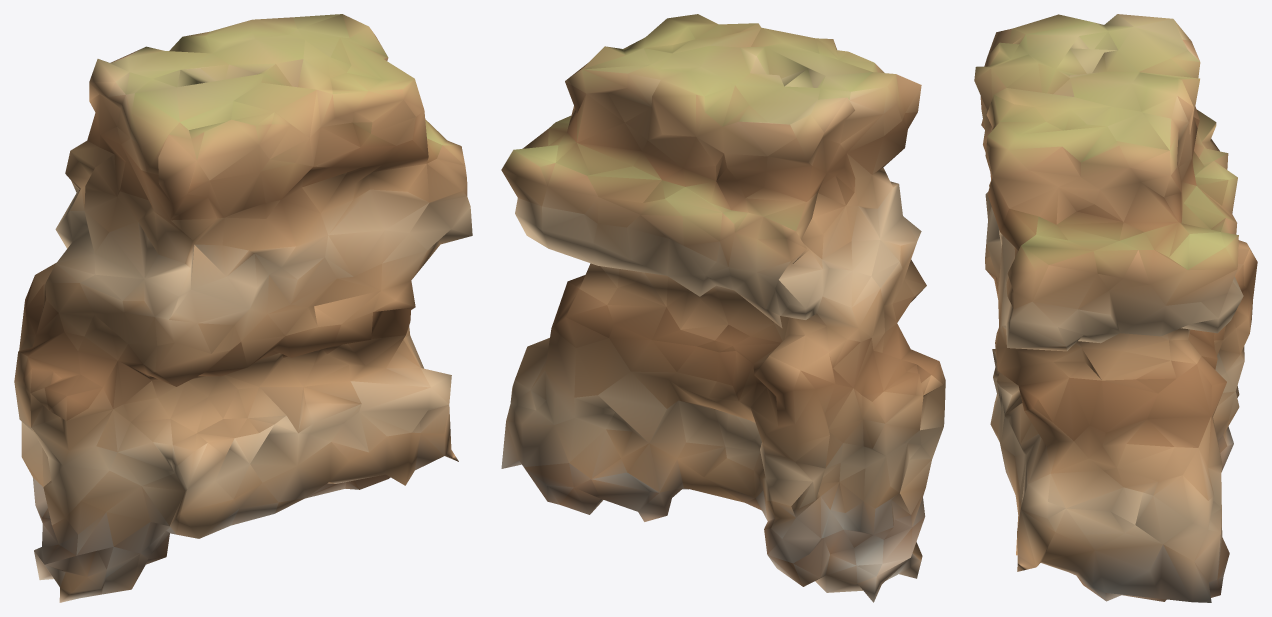
Rendered from shore_cliff_b_lod2.glb.
3 renders of one model, left to right at view 1: azimuth 30°, elevation 25°; view 2: azimuth 150°, elevation 25°; view 3: azimuth 270°, elevation 25°, orthographic. The views are drawn at different scales.
Visible parts, largest first — view 1: shore_cliff_b.001; view 2: shore_cliff_b.001; view 3: shore_cliff_b.001.
Boxes of the visible parts, x1,y1,x2,y2 form: shore_cliff_b.001: (14,14,472,602); shore_cliff_b.001: (501,14,945,602); shore_cliff_b.001: (974,14,1257,602).
Bounding box in the file's own units: 21.24 × 25.55 × 12.84.
